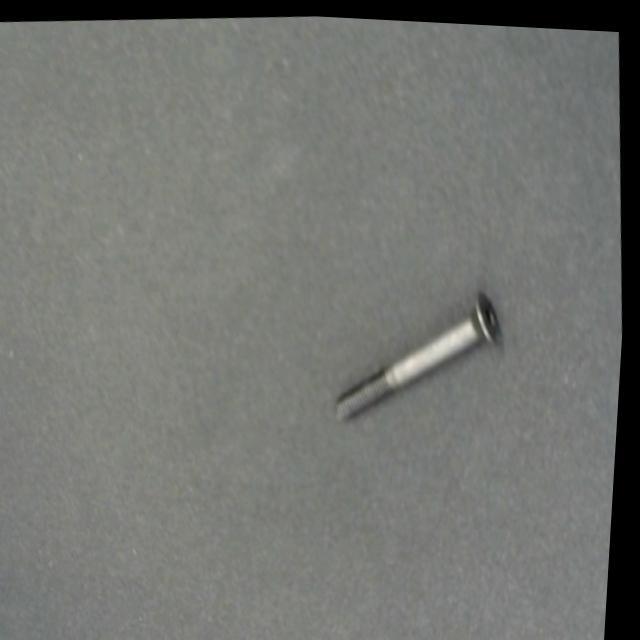FlatHeadSocketScrew: (330, 277, 517, 430)
